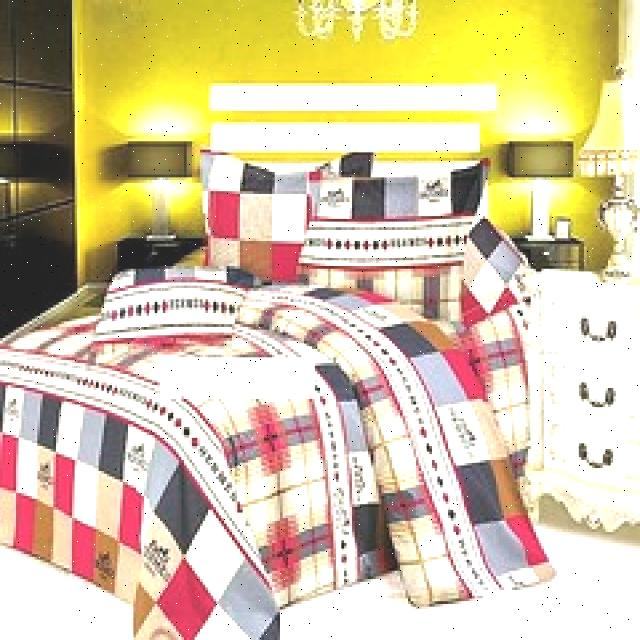bed: (0, 149, 517, 570)
